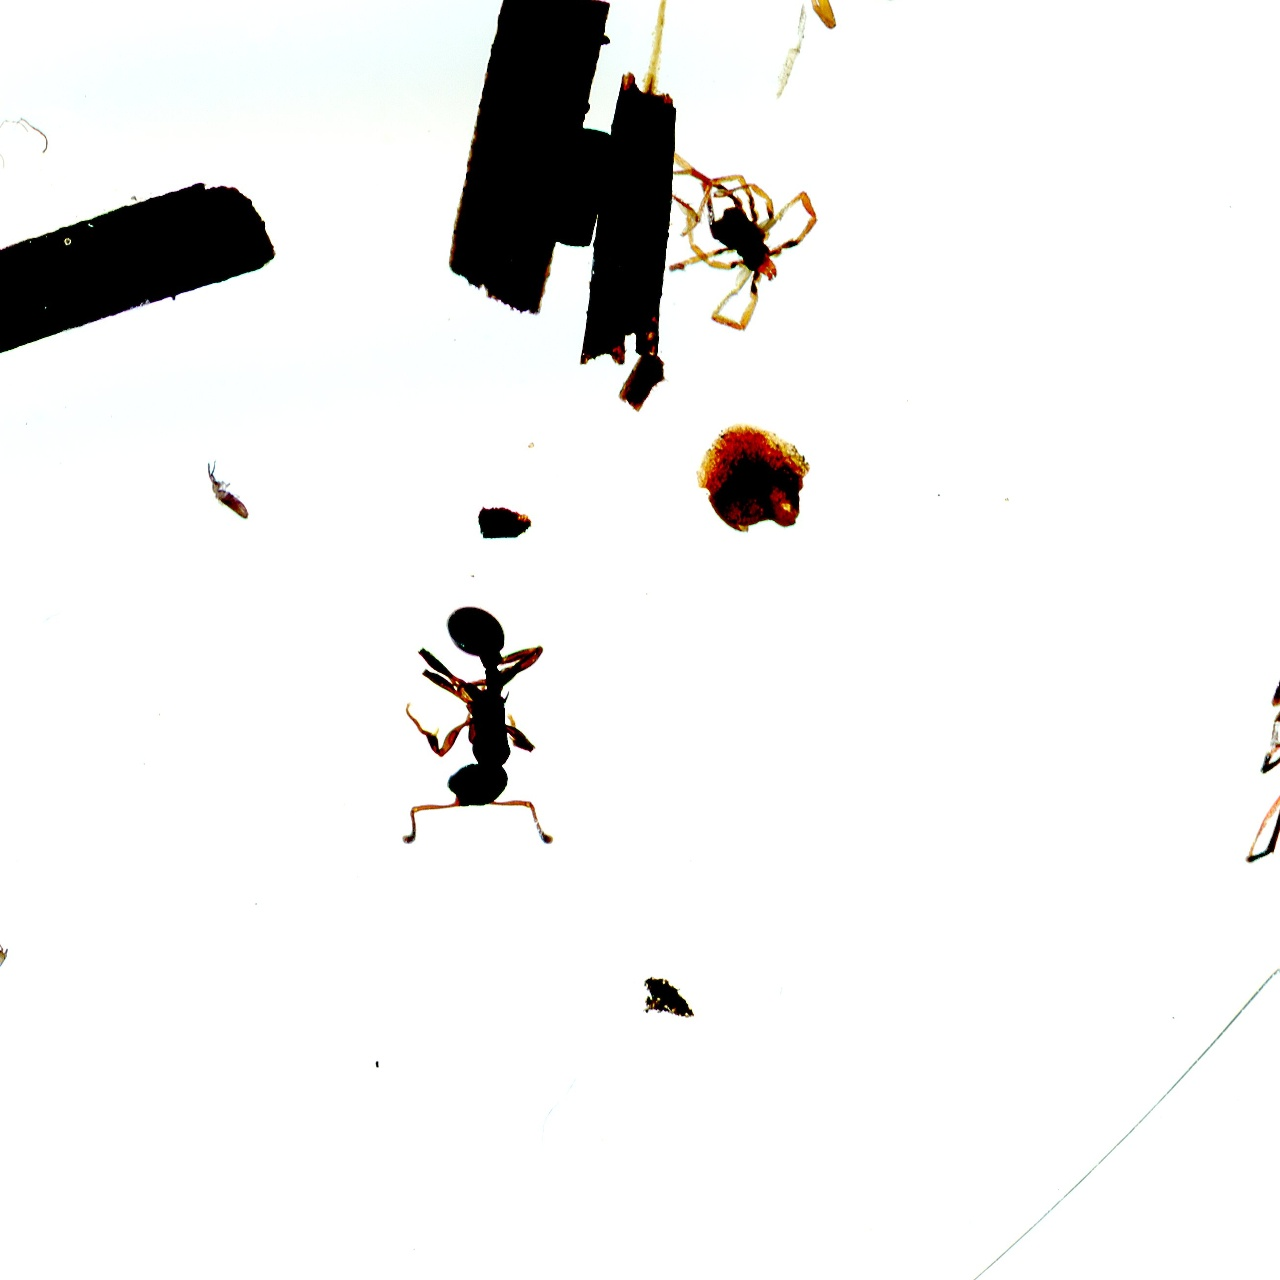arthropod: (390, 595, 565, 858), (666, 144, 828, 333), (1235, 644, 1280, 867), (714, 0, 931, 42), (199, 451, 272, 537), (0, 913, 39, 1022)
